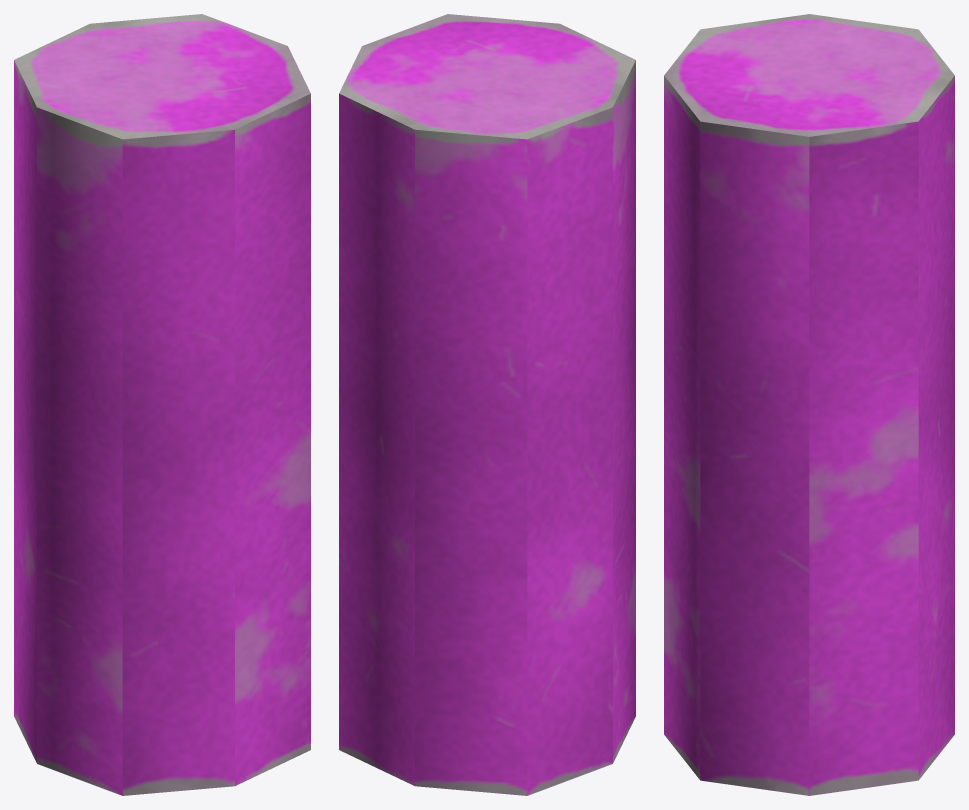
The model's file is bullet-foam.glb.
The picture shows the model from 3 angles, left to right: view 1: azimuth 30°, elevation 25°; view 2: azimuth 150°, elevation 25°; view 3: azimuth 270°, elevation 25°; orthographic projection.
Visible parts, largest first — view 1: bullet-foam; view 2: bullet-foam; view 3: bullet-foam.
Part boxes in pixels (left/top/right/bottom): bullet-foam: left=14, top=14, right=310, bottom=795; bullet-foam: left=339, top=14, right=635, bottom=795; bullet-foam: left=664, top=14, right=954, bottom=795.
Bounding box in the file's own units: 0.02 × 0.05 × 0.02.
Materials: 1 (1 with a texture image).
